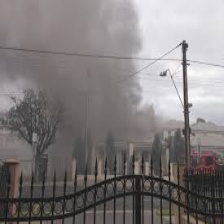smoke: (11, 2, 153, 150)
